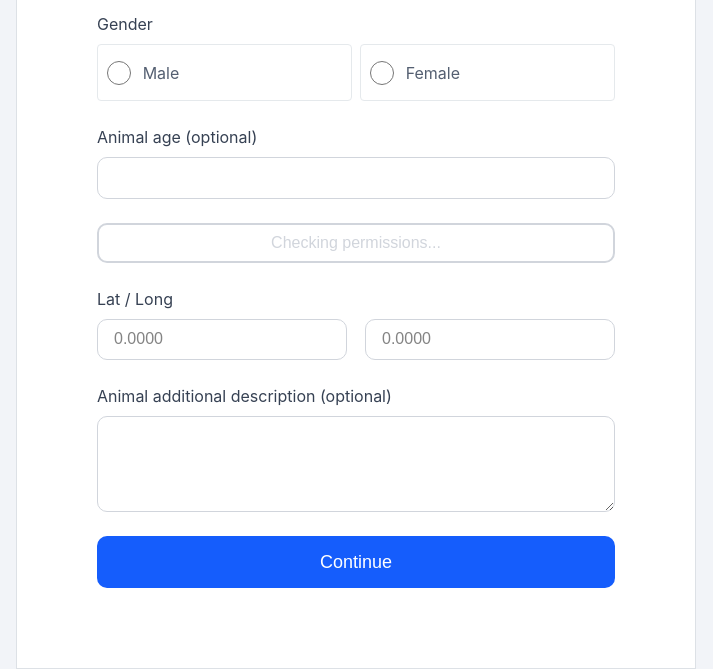
DetailsScreen › validation errors › should display inline errors for missing required fields
The image size is (713, 669).
(page scrolled)
Step 1. Click the button with test id "details.continue.click" → (356, 562), box [97,536,615,588]
(page scrolled)
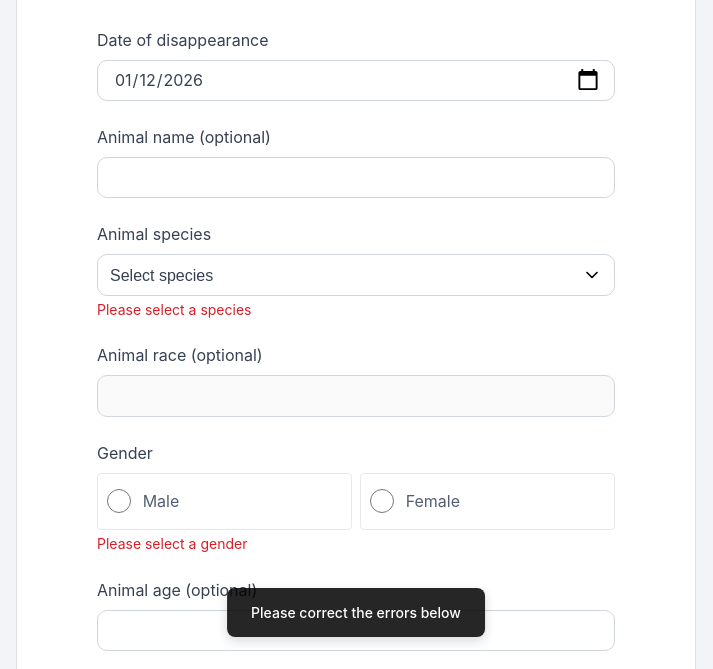
Result: the message "Please select a species" is shown at [97,301,252,318]
